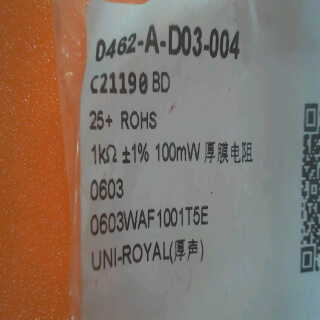1kR: (85, 143, 121, 168)
